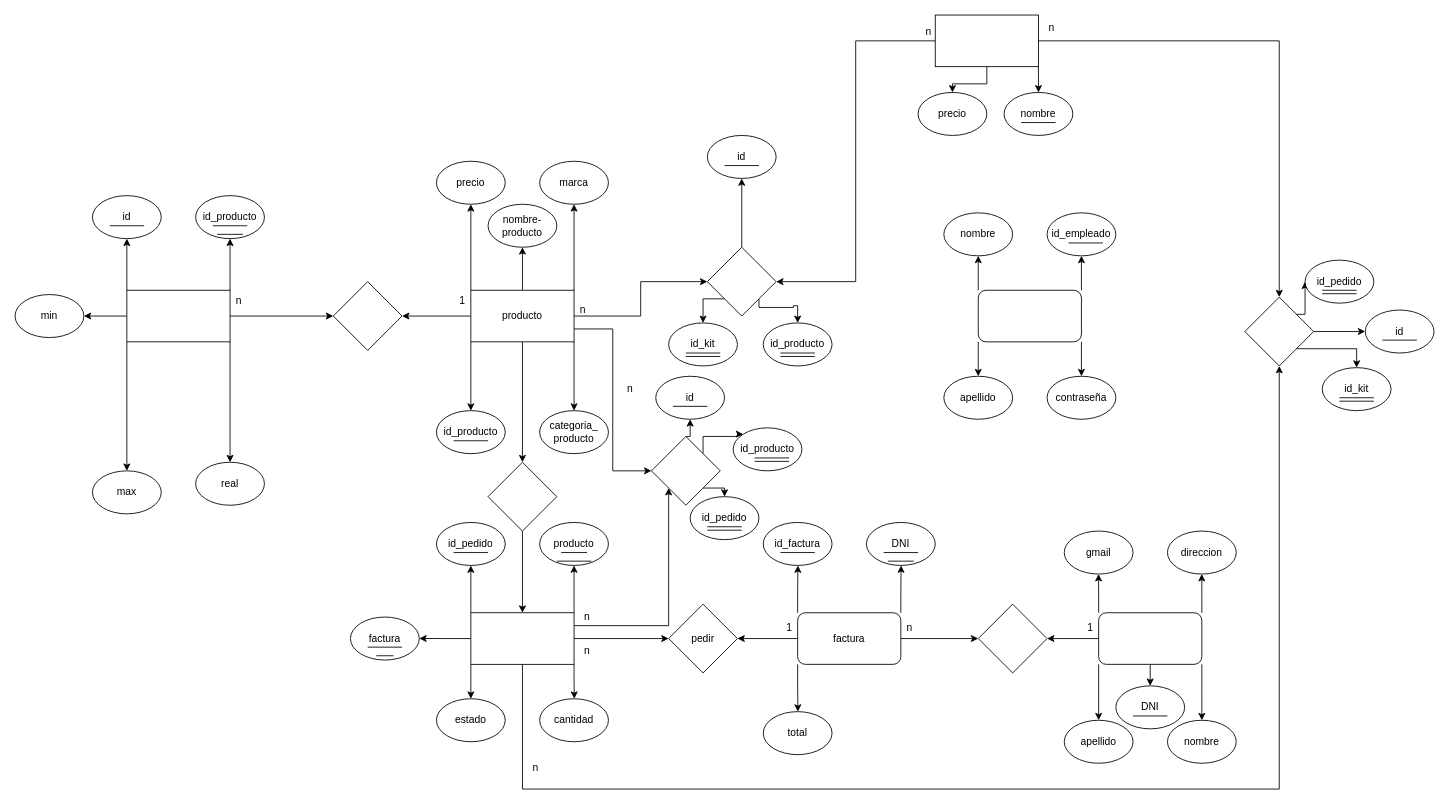
The diagram is 1449 pixels wide and 811 high, and some of its shapes have lost their labels. Each missing label, with the centre of its shape:
cliente: (x=1150, y=638)
cojuntar: (x=741, y=281)
empleados: (x=1029, y=315)
facturar: (x=1012, y=638)
KITS: (x=986, y=40)
llevar: (x=685, y=470)
pedido: (x=522, y=638)
pedido-kit: (x=1279, y=331)
producir: (x=522, y=496)
STOCK: (x=178, y=315)
stockear: (x=367, y=315)
